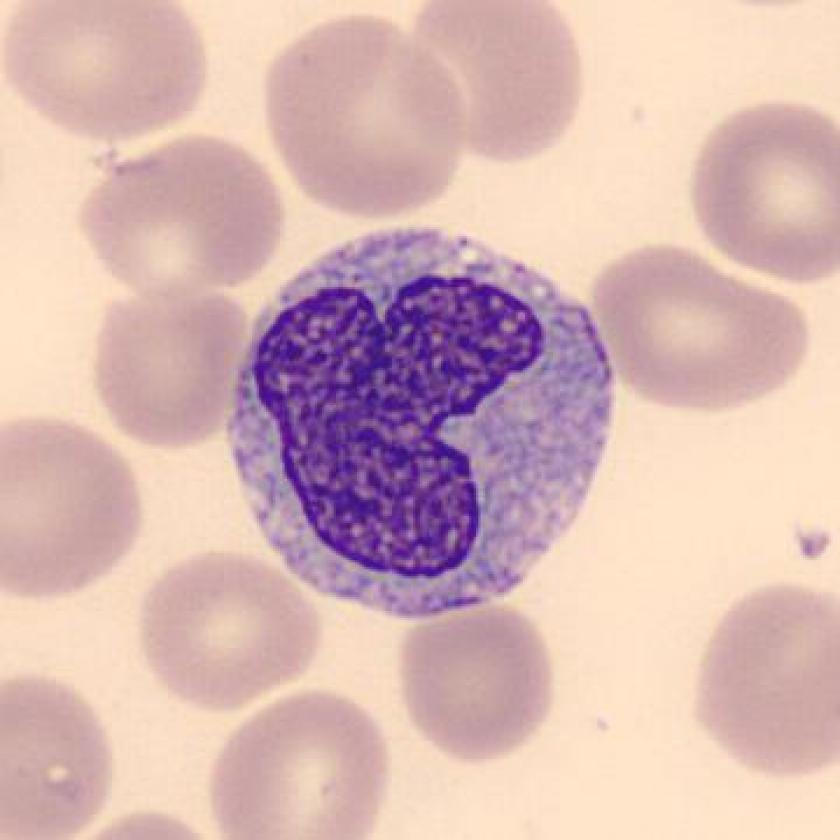monocyte: (204, 207, 638, 640)
